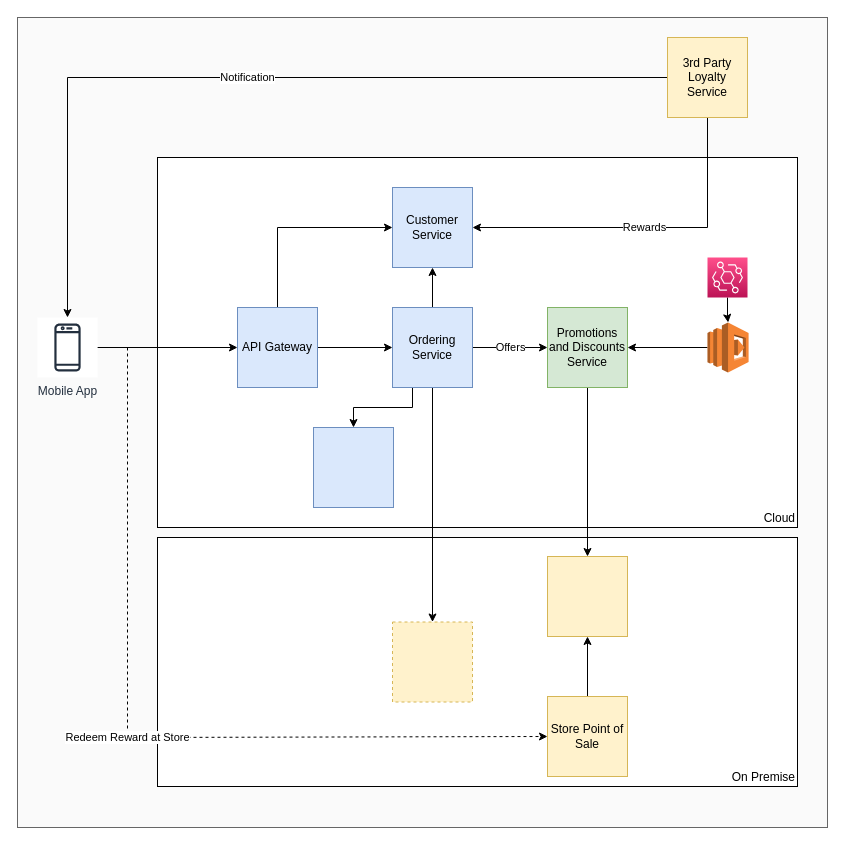
Some shapes in this 845 by 845 pixel diagram are drawn without their labels. The box of each missing label's shape, as (x1, y1, x2, y2) in pixels:
3rd Party Marketing Service: (546, 556, 628, 636)
EventBridge: (706, 256, 748, 298)
Lambda Function: (706, 322, 749, 372)
Payment Service: (312, 426, 394, 508)
Stores: (392, 621, 472, 702)
